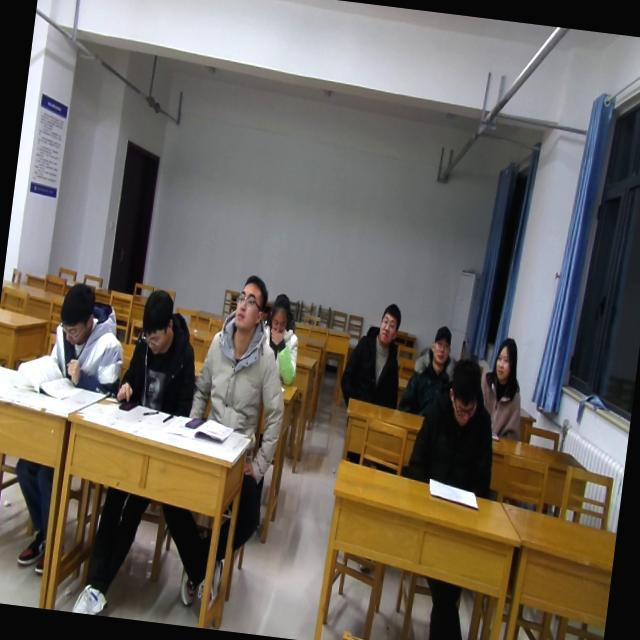bow: (42, 278, 133, 399)
down: (51, 271, 100, 350), (134, 280, 180, 360), (441, 352, 486, 432), (262, 282, 296, 342)
lookup: (229, 267, 271, 338), (487, 330, 523, 390), (372, 296, 404, 353), (426, 319, 454, 372)
sit: (184, 268, 300, 442), (402, 356, 509, 498), (112, 286, 204, 422), (336, 296, 411, 410), (396, 320, 464, 420), (476, 332, 534, 442), (258, 286, 308, 386)
